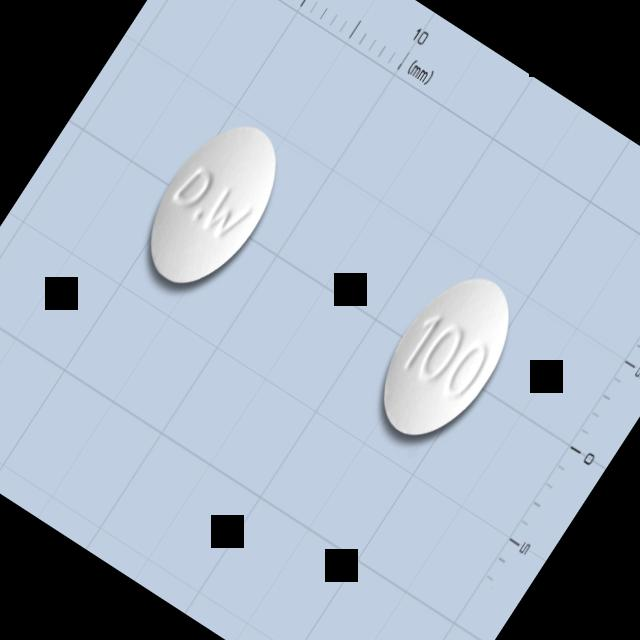Daewoong Levofloxacin: (123, 101, 303, 306), (357, 254, 536, 456)
